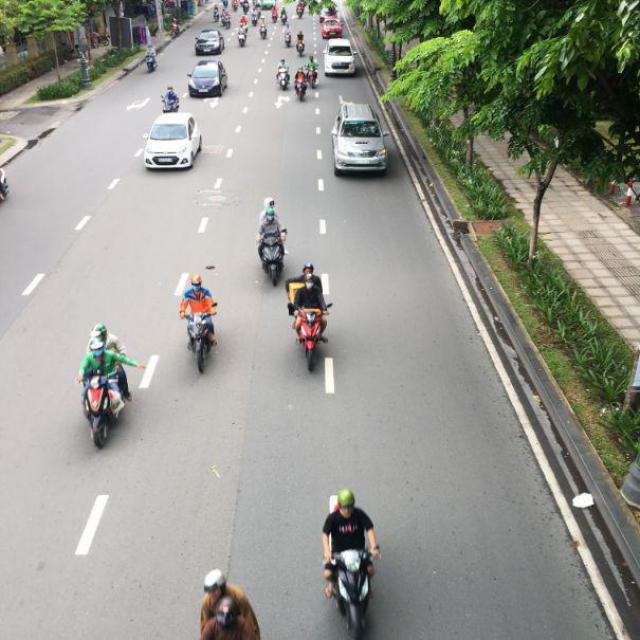car: (331, 109, 390, 178), (143, 114, 202, 170), (188, 61, 228, 98), (322, 40, 358, 76), (195, 30, 224, 57), (322, 18, 344, 40)
motorcycle: (319, 539, 386, 639), (82, 371, 124, 448), (294, 307, 330, 372), (185, 310, 216, 372), (258, 232, 286, 287), (273, 66, 294, 92)
